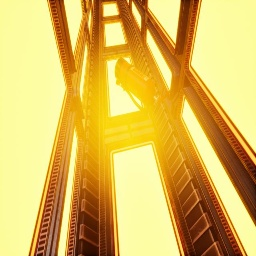FireExtinguisher ]: (115, 58, 170, 112)
